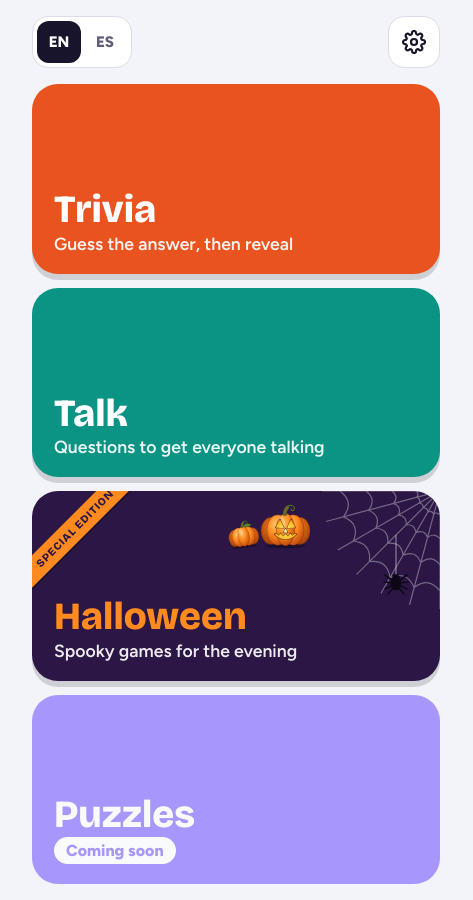
Scenario: Halloween Taboo › pauses and resumes with Pause
Click the button "Halloween Spooky games for the evening Special edition": (150, 616) [32, 491, 440, 680]
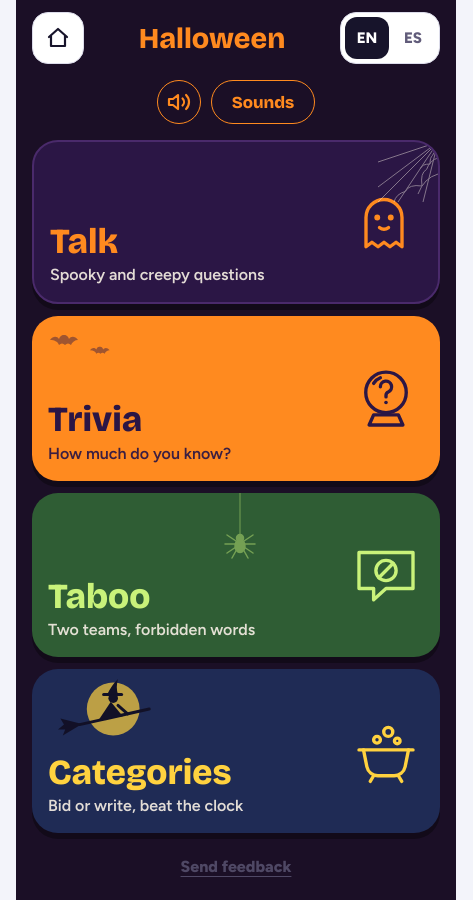
Click the button "Taboo Two teams, forbidden words": (99, 596) [32, 492, 440, 657]
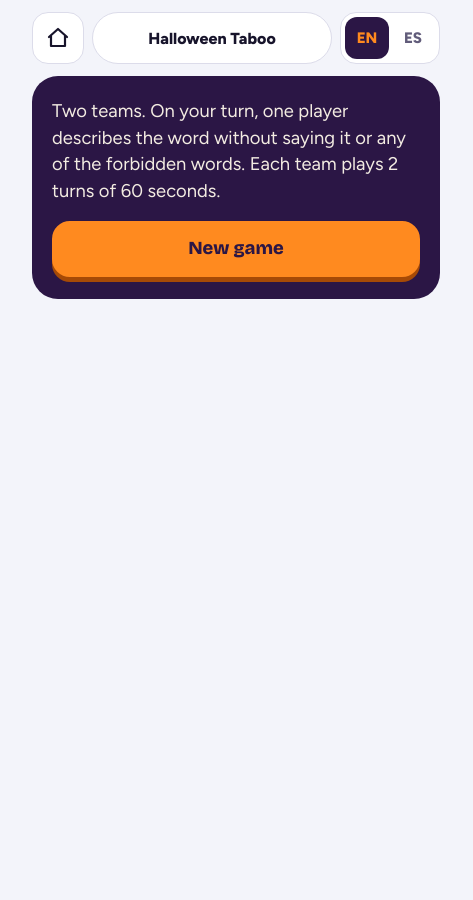
Click the button "New game": (236, 249) [52, 221, 420, 277]
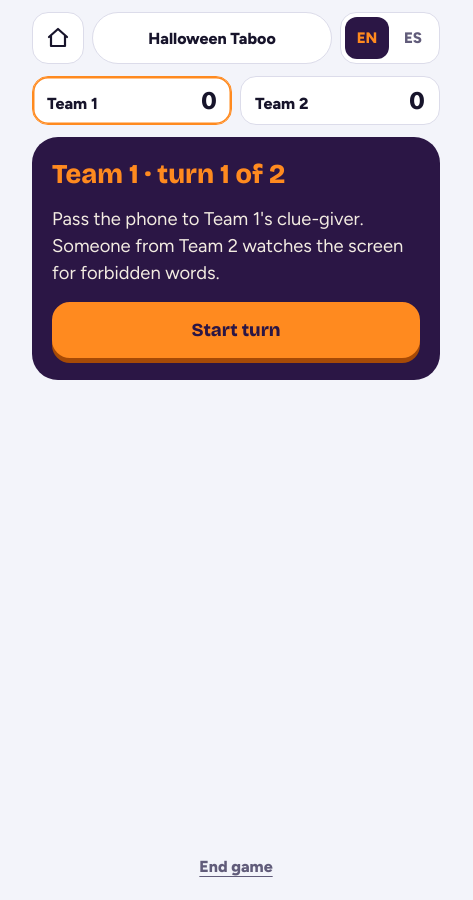
Click the button "Start turn": (236, 330) [52, 302, 420, 358]
Wait 10000 ms
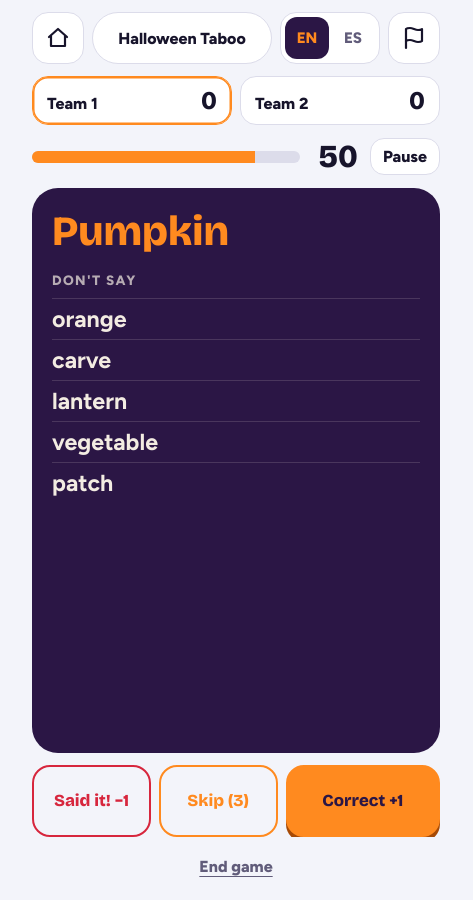
Click the button "Pause": (405, 156) [370, 138, 440, 175]
Wait 30000 ms
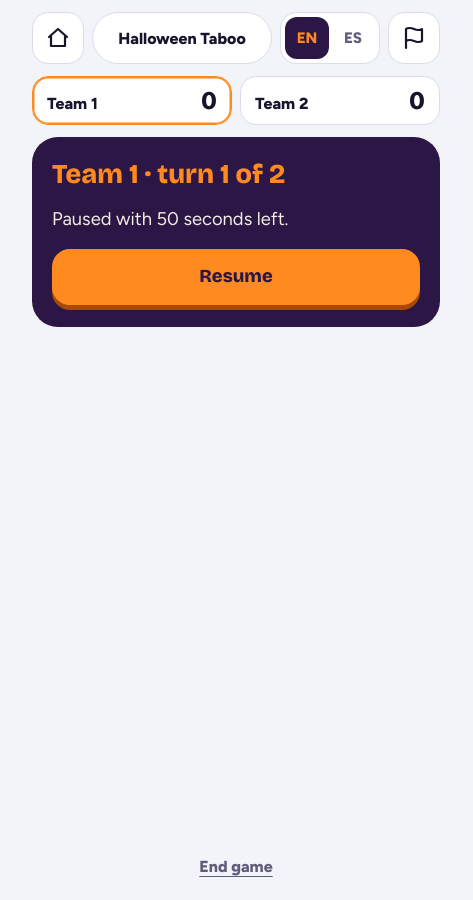
Result: the text "Paused with 50 seconds left." is shown at [52, 208, 288, 230]
